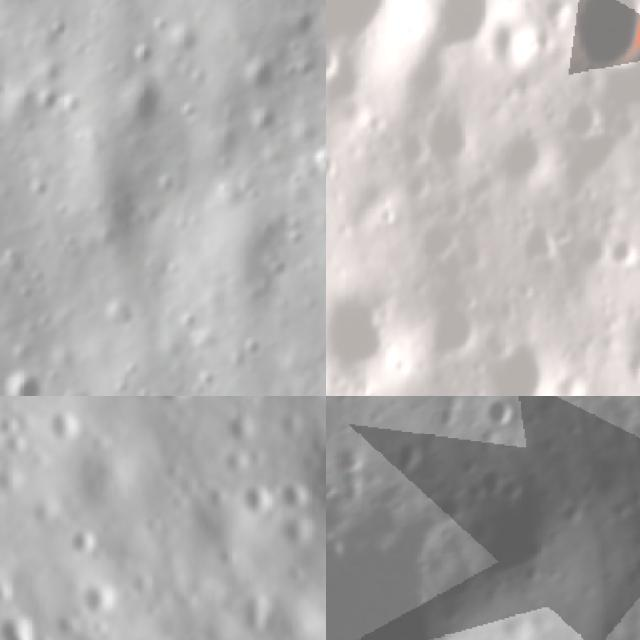crater: (326, 512, 444, 640), (326, 289, 407, 380), (272, 410, 326, 546), (418, 0, 527, 66), (326, 0, 415, 75), (558, 0, 640, 75), (475, 340, 570, 396), (417, 90, 482, 164), (420, 296, 490, 364), (66, 563, 134, 630), (490, 122, 555, 188), (482, 17, 538, 71), (556, 91, 607, 147), (51, 516, 106, 566), (38, 396, 89, 449), (0, 593, 54, 640), (387, 430, 428, 480), (241, 56, 283, 104), (133, 396, 206, 422), (601, 226, 640, 273), (569, 223, 604, 274), (474, 460, 512, 502), (0, 423, 32, 463), (3, 372, 50, 396), (0, 404, 31, 438), (478, 396, 518, 422), (326, 39, 343, 95), (0, 567, 20, 610)
